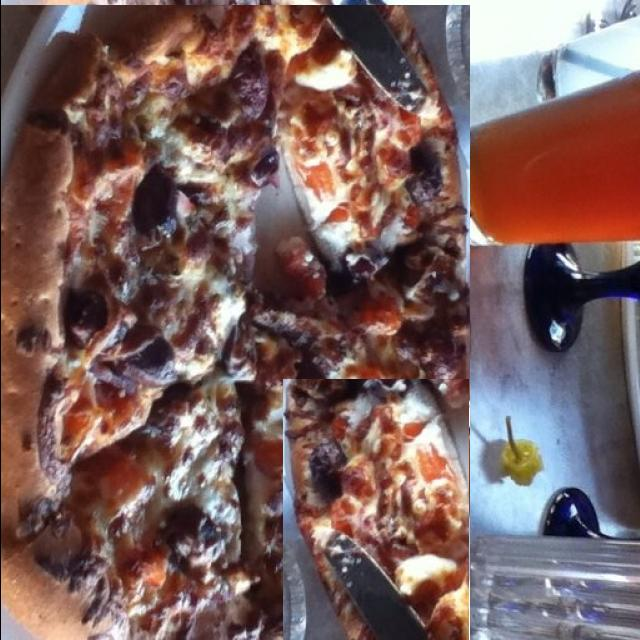pizza: (0, 5, 469, 640), (282, 379, 468, 640)
